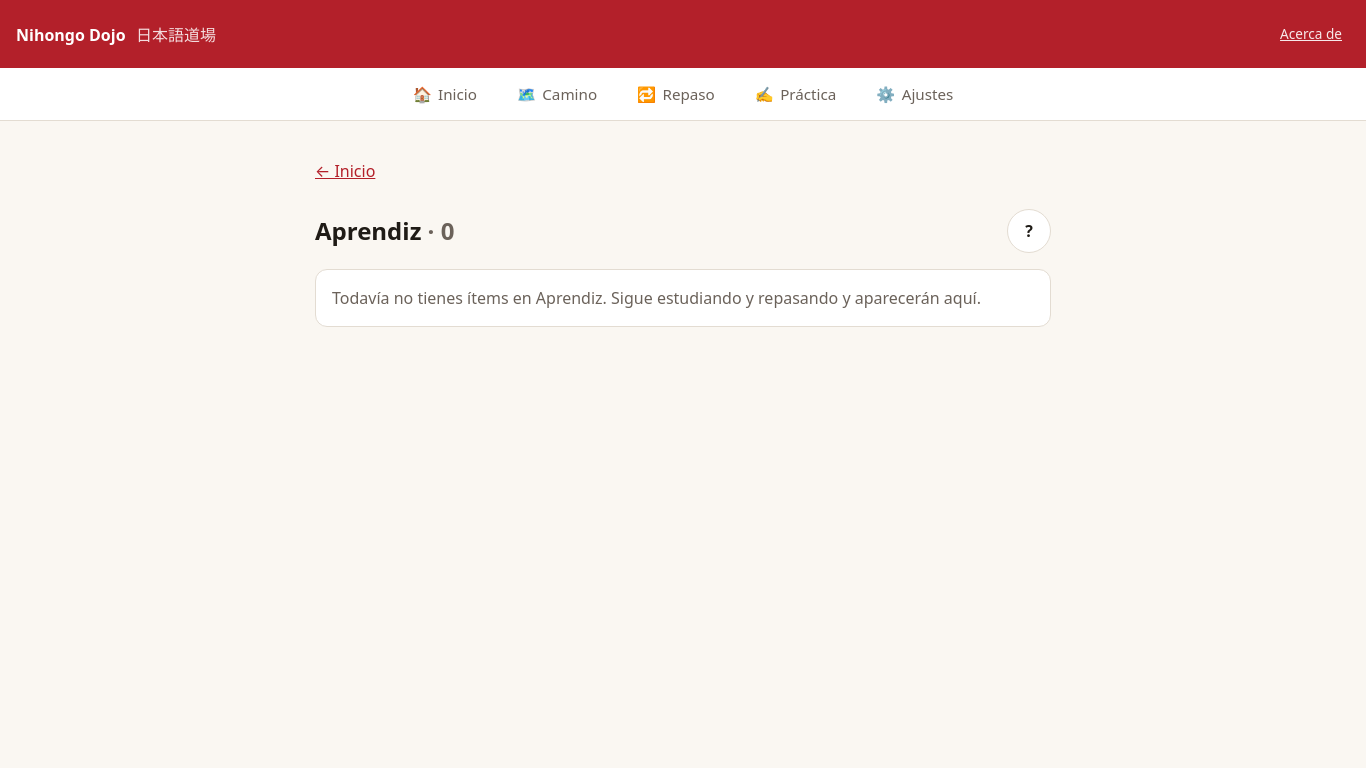
Dashboard SRS cards and help › opens and closes the help dialog with the keyboard
Click the button named "Ayuda".
click(1029, 231)  # box [1007,209,1051,253]
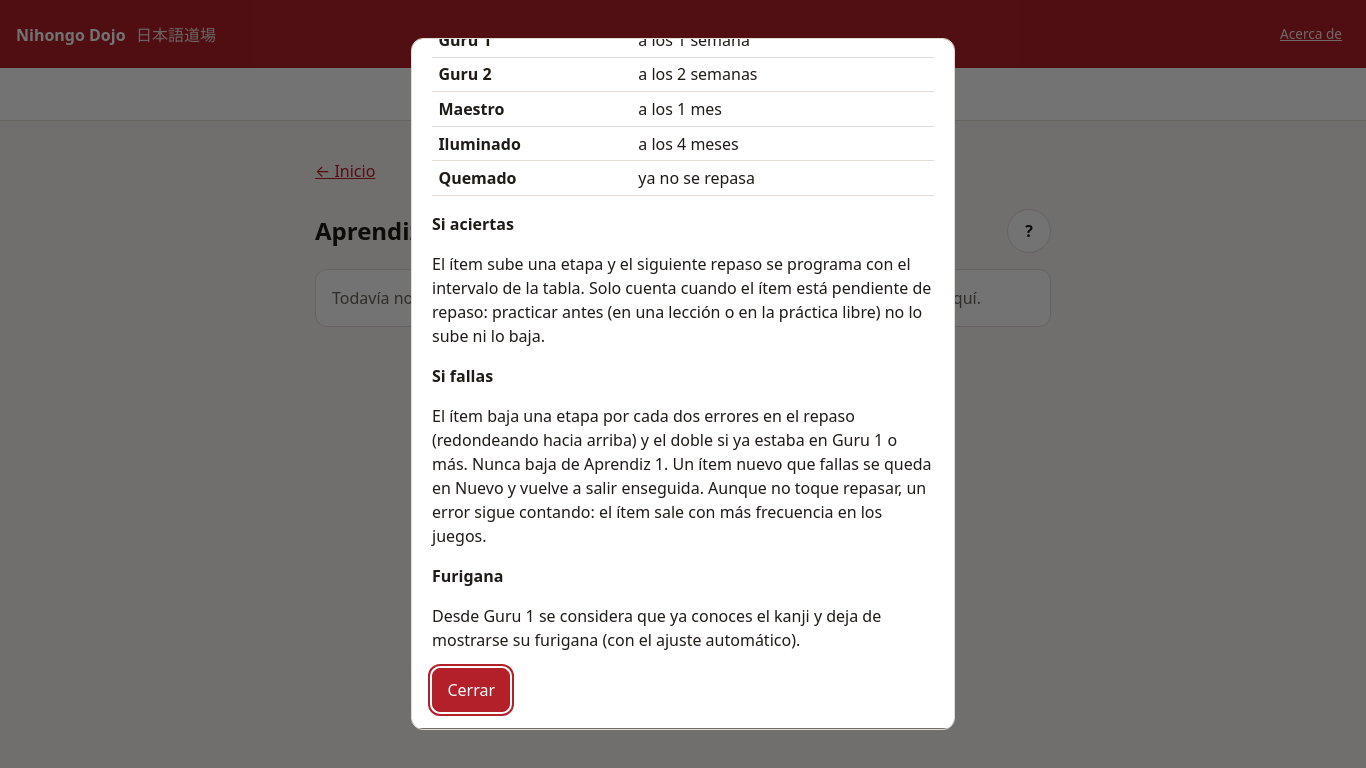
Press Escape
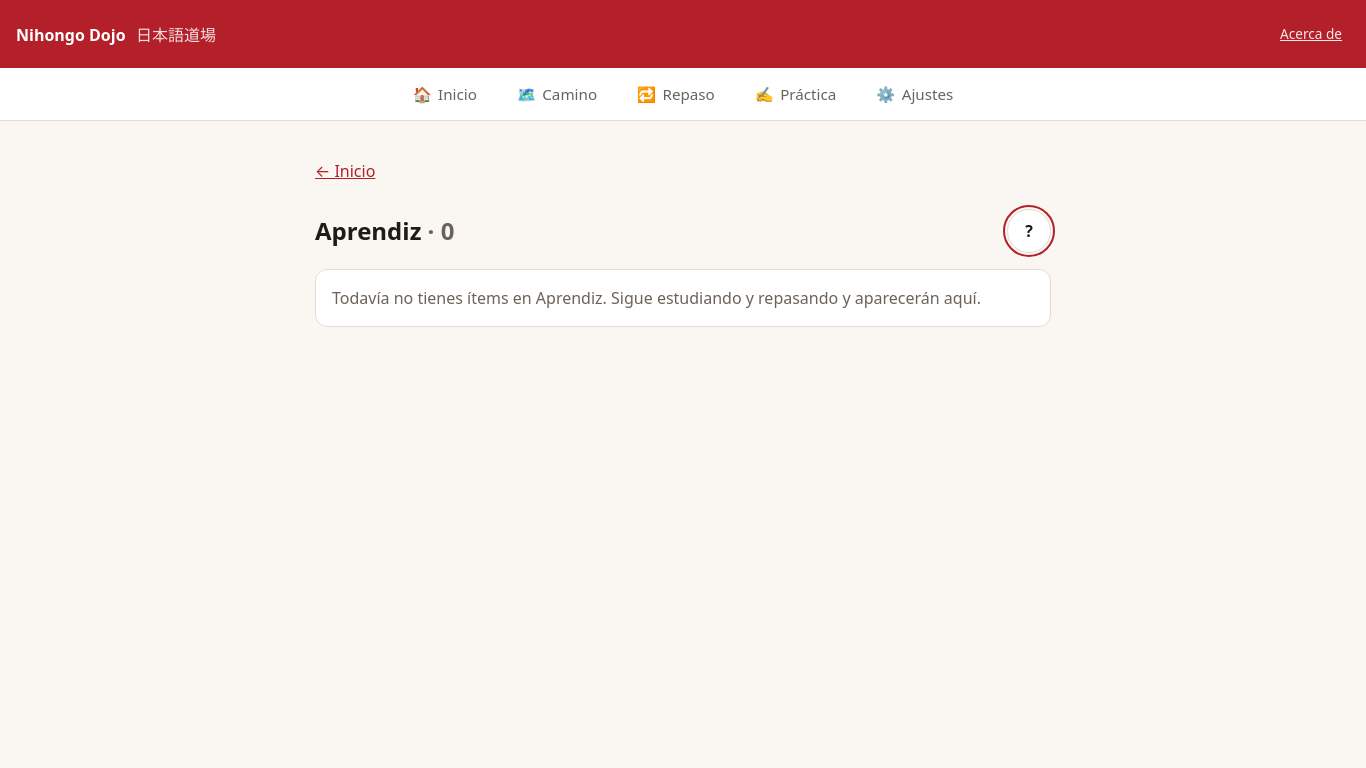
Check: the dialog is gone
